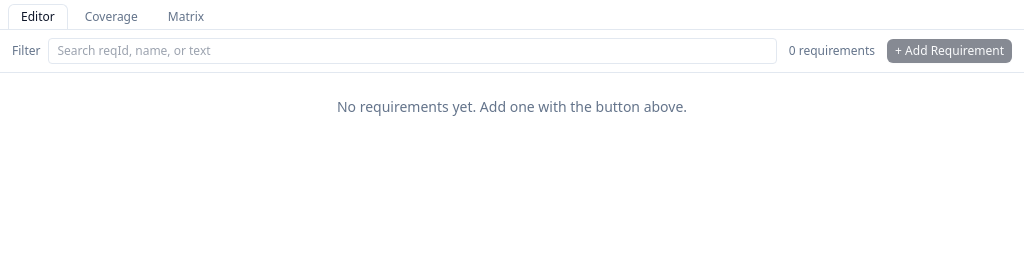
Test: <RequirementsSurface /> — Editor | Coverage sub-tablist › clicking the Coverage tab swaps panels and reflects in store state
Click the tab with test id "requirements-tab-coverage-button" at x=111, y=16, box [72,4,151,29]
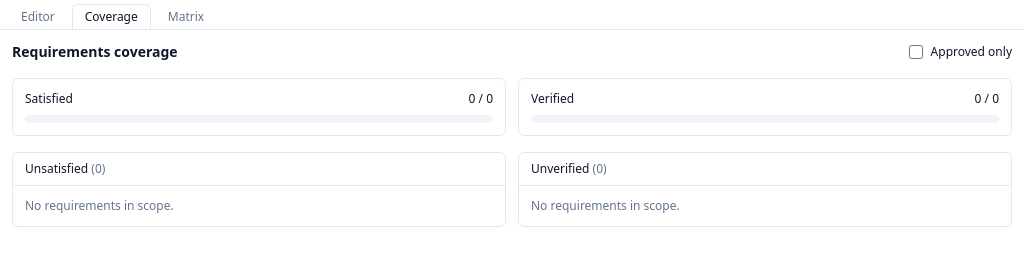
Expected: the panel with test id "requirements-coverage-tabpanel" is shown
Expected: the element with test id "requirements-coverage-panel" is shown
